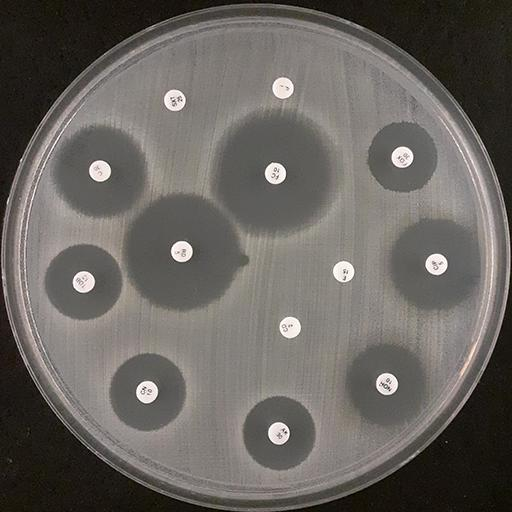disc: (375, 372, 399, 396), (391, 145, 414, 169), (170, 240, 194, 263), (72, 271, 96, 294), (136, 380, 159, 404), (267, 421, 290, 445), (264, 162, 287, 185), (88, 159, 111, 182), (279, 316, 302, 339), (332, 260, 355, 283), (425, 253, 448, 276), (163, 89, 186, 111), (272, 77, 294, 99)
